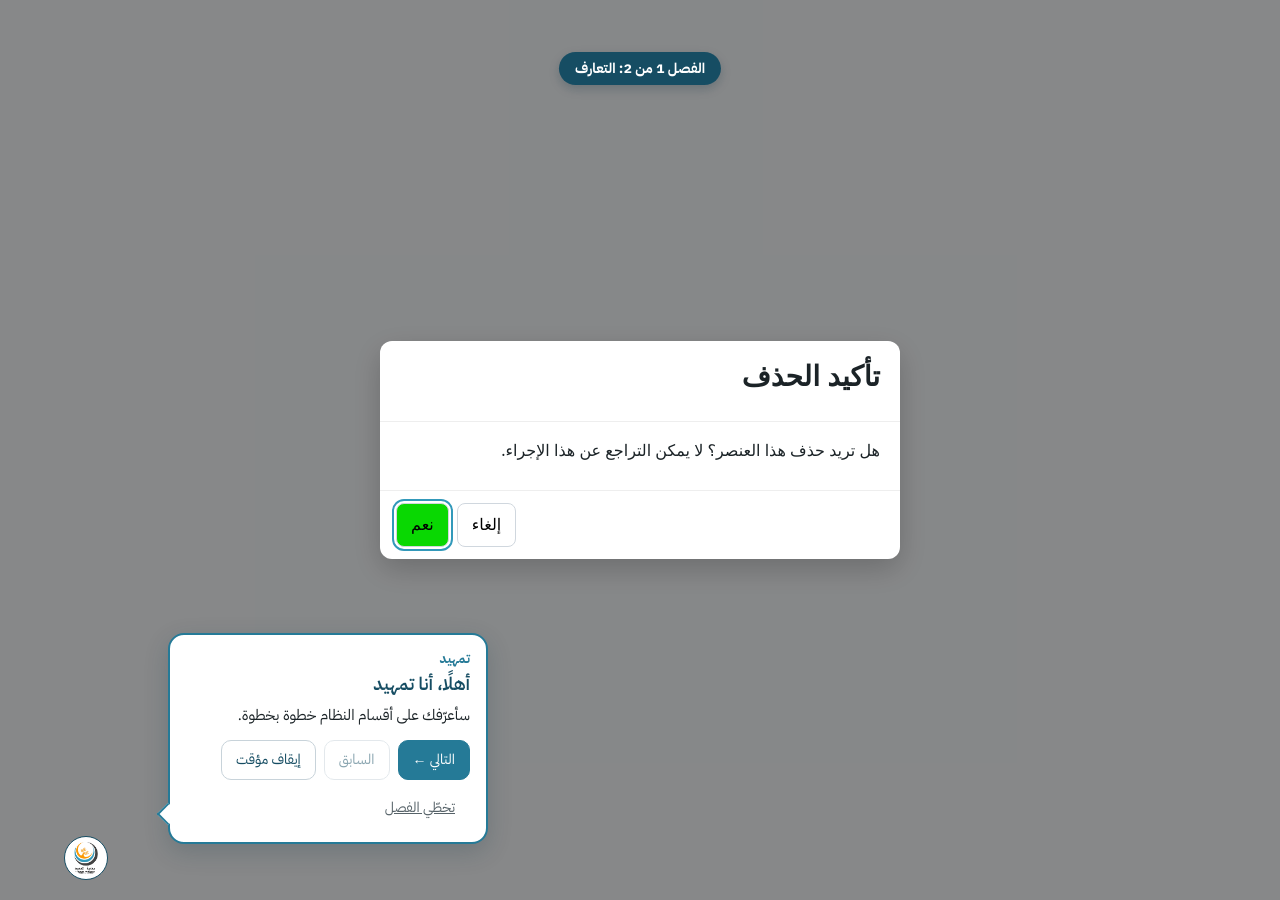
Scenario: skipping a chapter cancels a confirm dialog it left open (never confirmed later)
Click the button "تخطّي الفصل" at {"x": 420, "y": 808}, box [370,788,470,828]
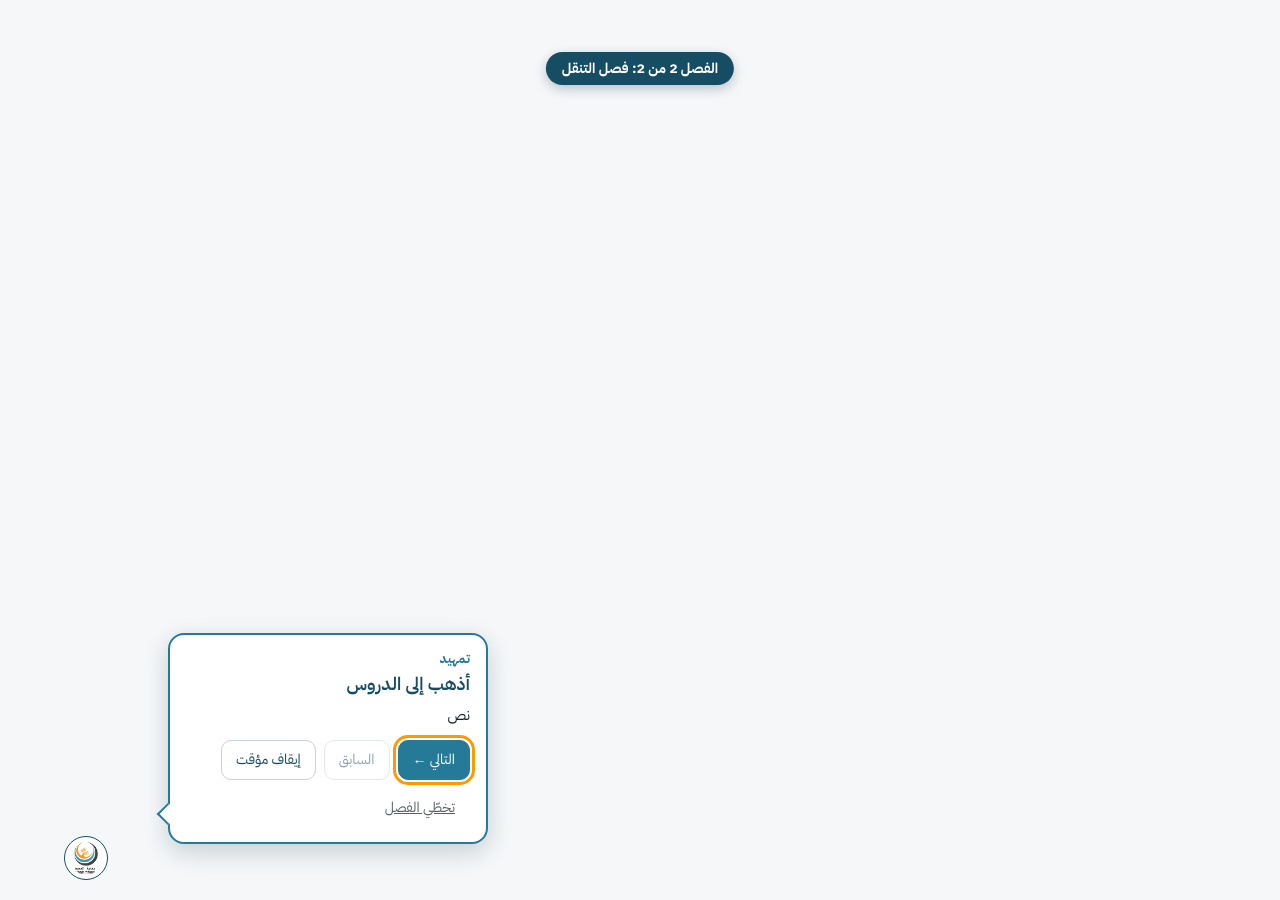
Check: the dialog is gone
